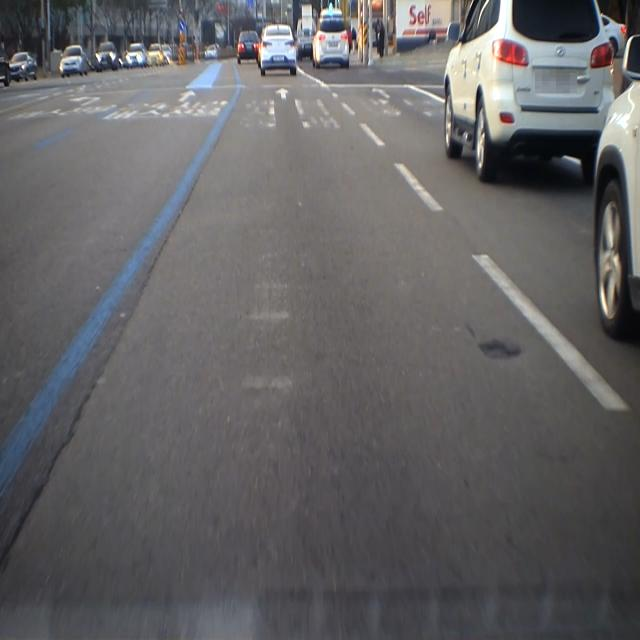Pothole: (457, 313, 532, 383)
